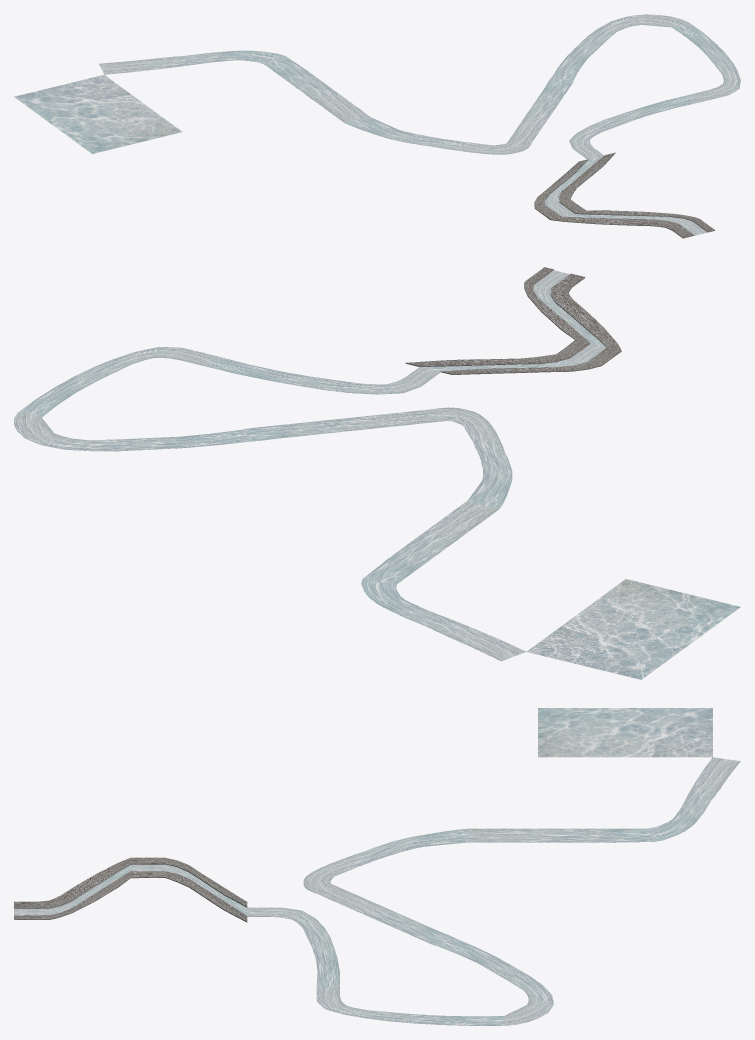
Rendered from river_4.fbx.
The picture shows the model from 3 angles, top to bottom: view 1: azimuth 30°, elevation 25°; view 2: azimuth 150°, elevation 25°; view 3: azimuth 270°, elevation 25°; orthographic projection. The views are drawn at different scales.
Visible parts, largest first — view 1: Box007, Box013, Box005, Box012, Box014, Box003, Box004, Box009, Box011, Box008, Box001, Box002; view 2: Box007, Box013, Box005, Box014, Box012, Box003, Box004, Box011, Box009, Box008, Box001, Box002; view 3: Box007, Box013, Box005, Box012, Box014, Box004, Box003, Box009, Box011, Box008, Box001, Box002.
Part boxes in pixels (<box>): Box007: <box>14,74,181,153</box>; Box013: <box>264,56,369,122</box>; Box005: <box>551,14,688,80</box>; Box012: <box>344,117,529,154</box>; Box014: <box>99,50,285,74</box>; Box003: <box>569,94,701,159</box>; Box004: <box>672,23,740,101</box>; Box009: <box>534,159,694,238</box>; Box011: <box>507,77,573,145</box>; Box008: <box>559,152,714,232</box>; Box001: <box>565,214,707,235</box>; Box002: <box>545,156,602,216</box>; Box007: <box>526,579,740,679</box>; Box013: <box>363,501,498,583</box>; Box005: <box>14,412,249,451</box>; Box014: <box>361,579,526,661</box>; Box012: <box>440,407,512,509</box>; Box003: <box>204,356,440,394</box>; Box004: <box>18,346,216,417</box>; Box011: <box>243,408,446,441</box>; Box009: <box>440,273,621,374</box>; Box008: <box>405,267,590,366</box>; Box001: <box>533,270,606,347</box>; Box002: <box>420,344,605,371</box>; Box007: <box>538,708,712,757</box>; Box013: <box>468,828,653,842</box>; Box005: <box>437,938,553,1025</box>; Box012: <box>303,828,469,891</box>; Box014: <box>648,757,740,841</box>; Box004: <box>316,986,504,1025</box>; Box003: <box>247,907,339,986</box>; Box009: <box>14,857,247,908</box>; Box011: <box>312,884,455,945</box>; Box008: <box>14,871,247,922</box>; Box001: <box>14,865,130,915</box>; Box002: <box>130,864,246,915</box>.
Size of the model in its own units: 64477 by 80 by 62330.
